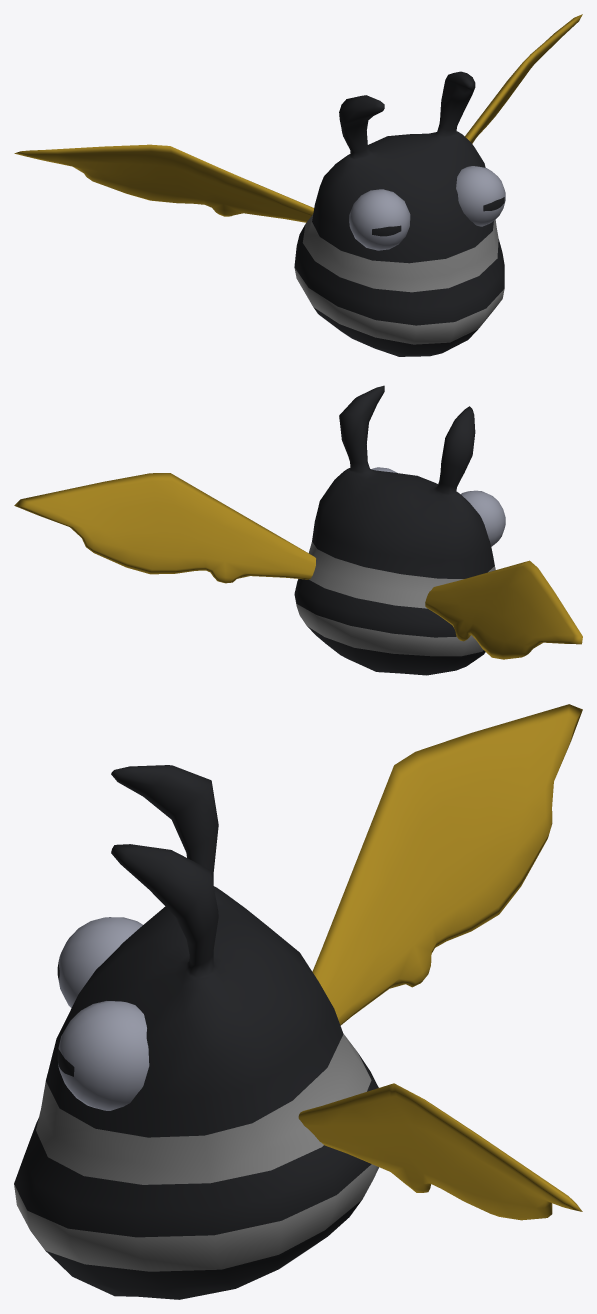
Rendered from Armabee.glb.
The picture shows the model from 3 angles, top to bottom: view 1: azimuth 30°, elevation 25°; view 2: azimuth 150°, elevation 25°; view 3: azimuth 270°, elevation 25°; orthographic projection. The views are drawn at different scales.
Parts seen in each view (by area): view 1: SK_Armabee; view 2: SK_Armabee; view 3: SK_Armabee.
Boxes of the visible parts, bbox=[...] form: SK_Armabee: bbox=[14, 14, 582, 356]; SK_Armabee: bbox=[14, 385, 582, 675]; SK_Armabee: bbox=[14, 704, 582, 1299].
Bounding box in the file's own units: 4.3 × 1.89 × 2.06.
1 material, 1 textured.
